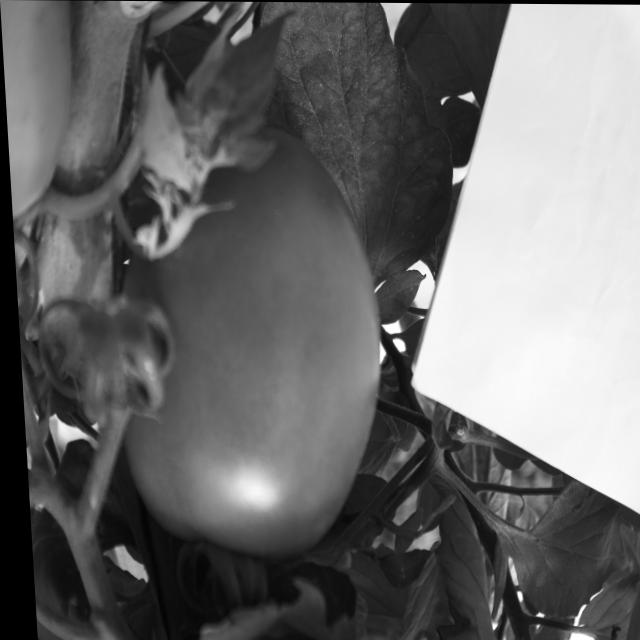kirmizi: (119, 78, 406, 566)
